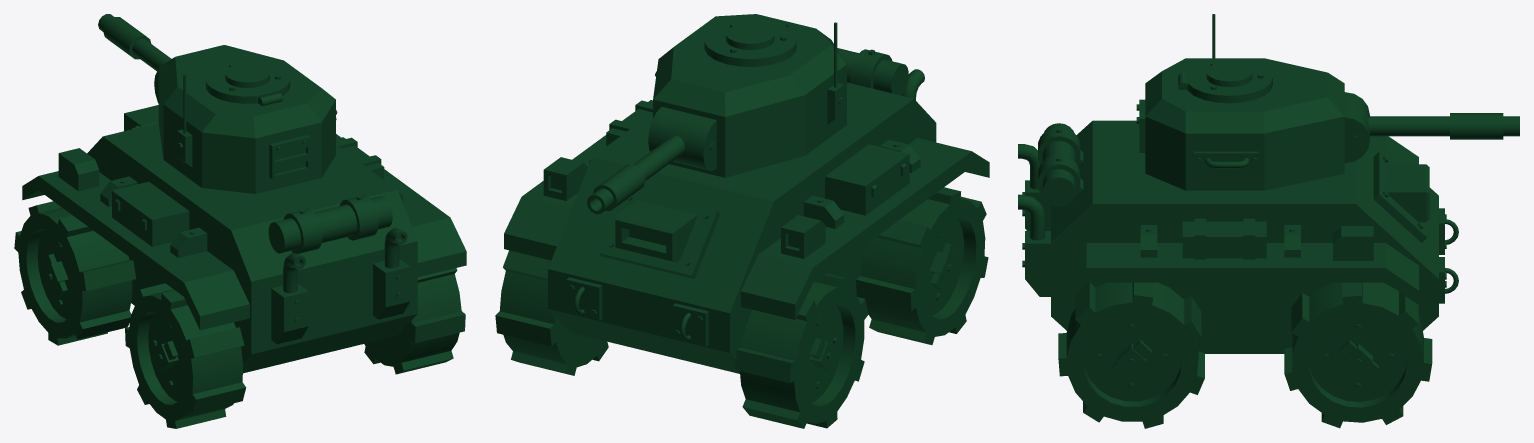
File: tankBlend.glb
The picture shows the model from 3 angles, left to right: view 1: azimuth 30°, elevation 25°; view 2: azimuth 150°, elevation 25°; view 3: azimuth 270°, elevation 25°; orthographic projection. The views are drawn at different scales.
Parts seen in each view (by area): view 1: TankFree_Body, TankFree_Tower, TankFree_Wheel_b_left, TankFree_Wheel_f_left, TankFree_Wheel_f_right, TankFree_Canon; view 2: TankFree_Body, TankFree_Tower, TankFree_Wheel_f_left, TankFree_Wheel_b_left, TankFree_Wheel_b_right, TankFree_Canon; view 3: TankFree_Body, TankFree_Tower, TankFree_Wheel_f_right, TankFree_Wheel_b_right, TankFree_Canon.
Boxes of the visible parts, x1=… form: TankFree_Body: x1=22, y1=105, x2=466, y2=373; TankFree_Tower: x1=154, y1=45, x2=337, y2=193; TankFree_Wheel_b_left: x1=14, y1=201, x2=136, y2=345; TankFree_Wheel_f_left: x1=125, y1=283, x2=246, y2=428; TankFree_Wheel_f_right: x1=364, y1=268, x2=465, y2=374; TankFree_Canon: x1=98, y1=14, x2=171, y2=71; TankFree_Body: x1=504, y1=48, x2=989, y2=373; TankFree_Tower: x1=648, y1=14, x2=846, y2=177; TankFree_Wheel_f_left: x1=856, y1=187, x2=988, y2=344; TankFree_Wheel_b_left: x1=735, y1=273, x2=868, y2=428; TankFree_Wheel_b_right: x1=495, y1=250, x2=608, y2=375; TankFree_Canon: x1=587, y1=135, x2=684, y2=214; TankFree_Body: x1=1018, y1=120, x2=1458, y2=353; TankFree_Tower: x1=1136, y1=14, x2=1369, y2=190; TankFree_Wheel_f_right: x1=1058, y1=282, x2=1204, y2=428; TankFree_Wheel_b_right: x1=1284, y1=282, x2=1432, y2=428; TankFree_Canon: x1=1367, y1=113, x2=1519, y2=139.
Size of the model in its own units: 1.28 by 1.36 by 1.99.
